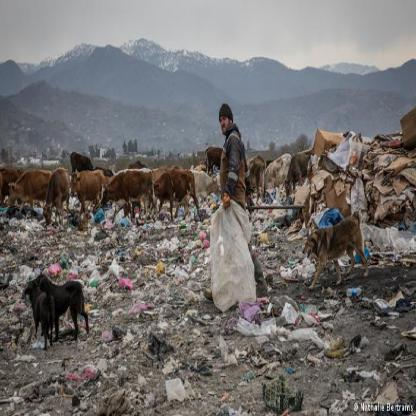Garbage: (1, 210, 225, 316), (273, 138, 416, 263)
